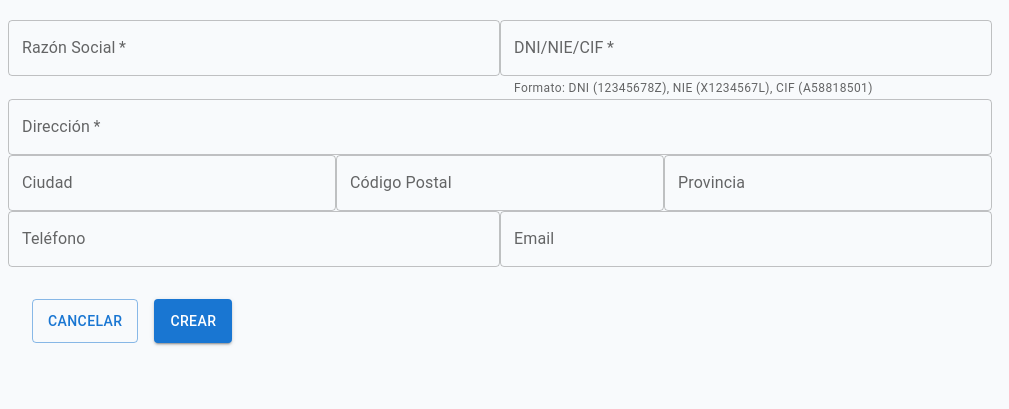
ClientForm › Create mode › validates email format
In the field labelled "Email": (746, 239) [500,211,992,267], type "invalid-email"
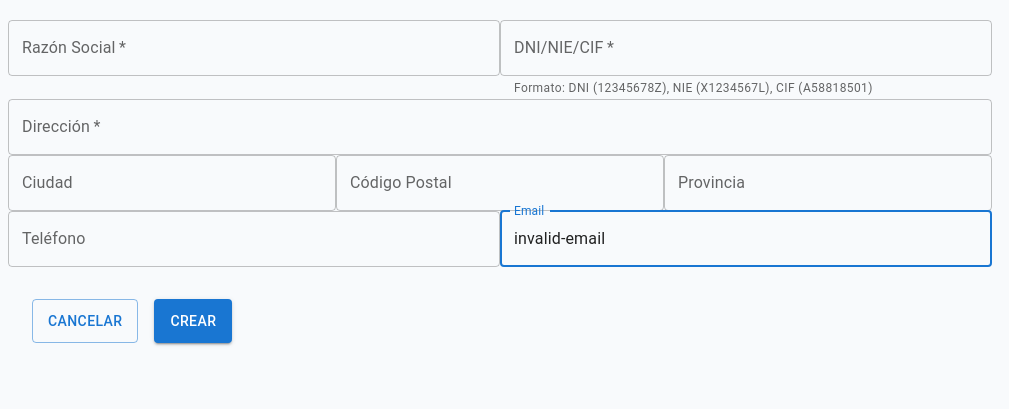
Click the button "Crear": click(193, 321) [154,299,232,343]
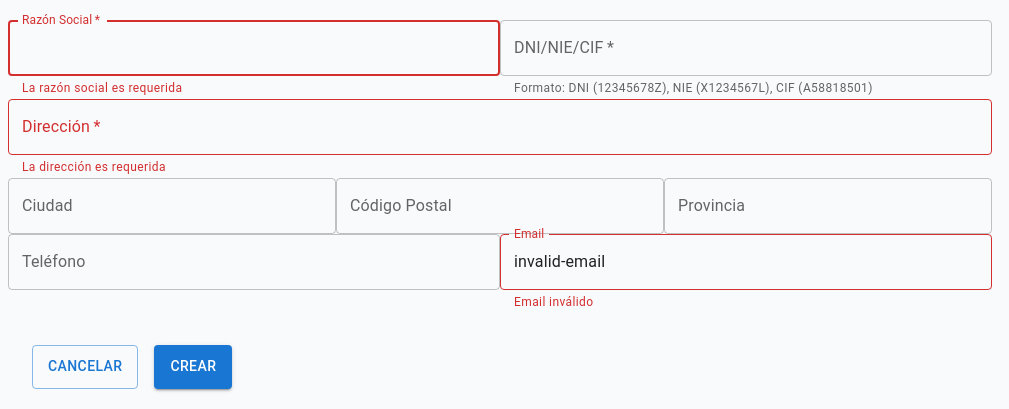
Expected: the text "Email inválido" is shown, [514,295,594,309]
